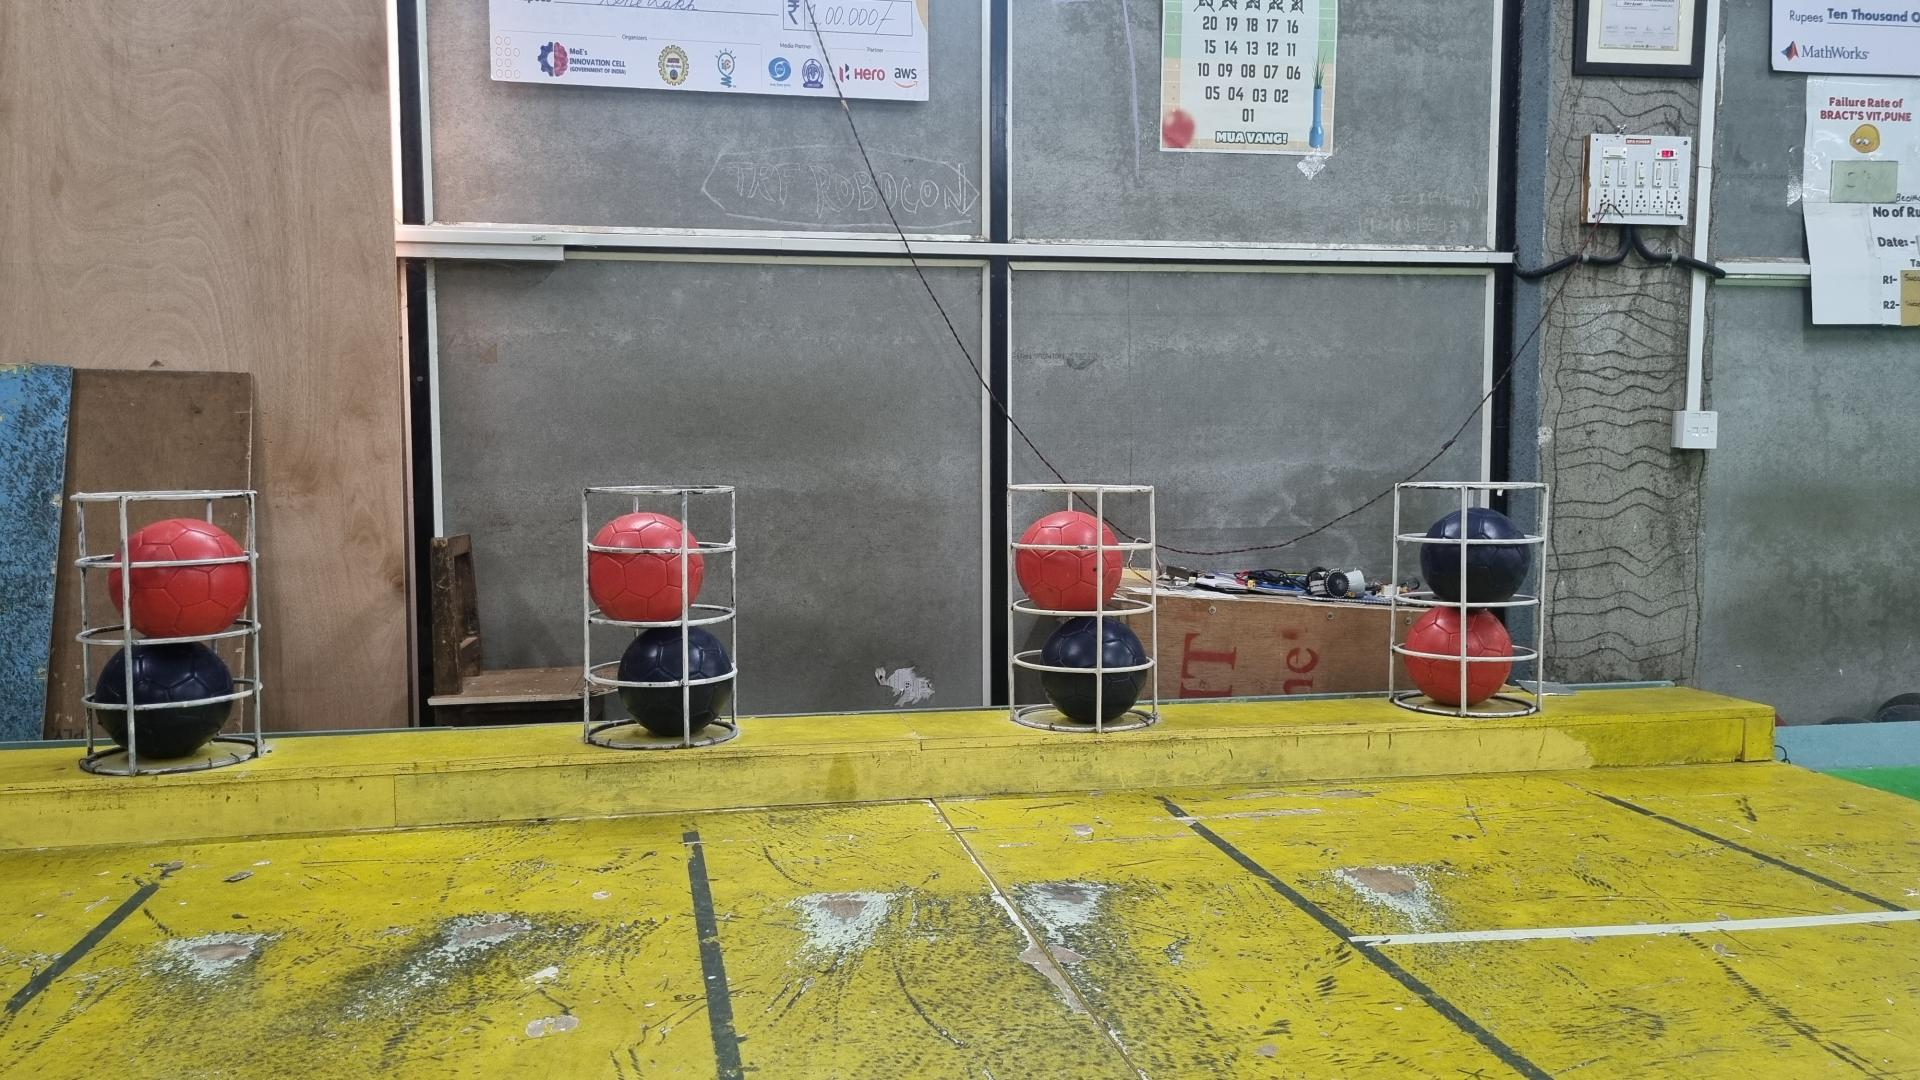dhoka: (94, 645, 236, 761), (618, 625, 732, 738), (1039, 618, 1147, 727), (1422, 506, 1530, 607)
laale: (108, 517, 252, 637), (588, 509, 705, 622), (1017, 509, 1125, 611), (1466, 611, 1511, 704)
